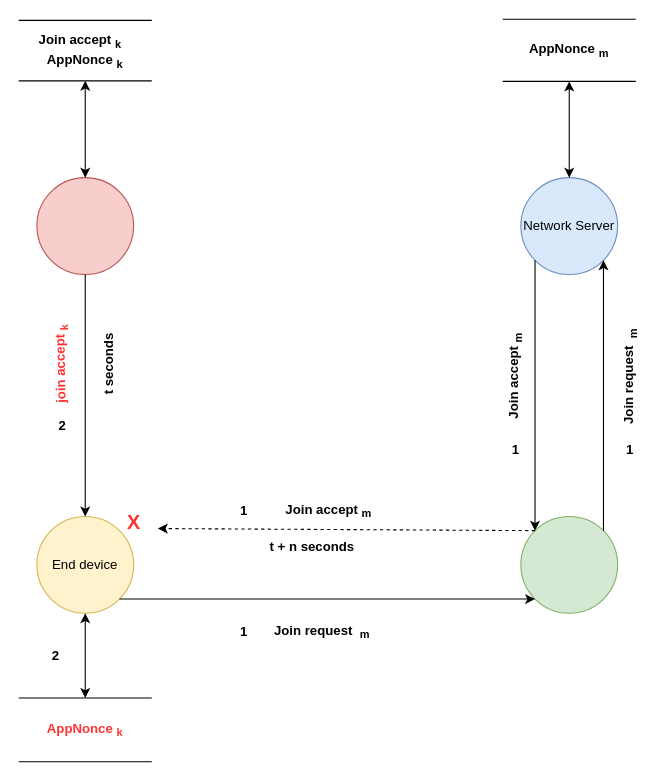
The diagram is 667 pixels wide and 781 high, and some of its shapes have lost their labels. The centre of each missing label's shape, as x and y in pixels:
Gateway: (569,564)
Rogue Gateway: (85,225)
